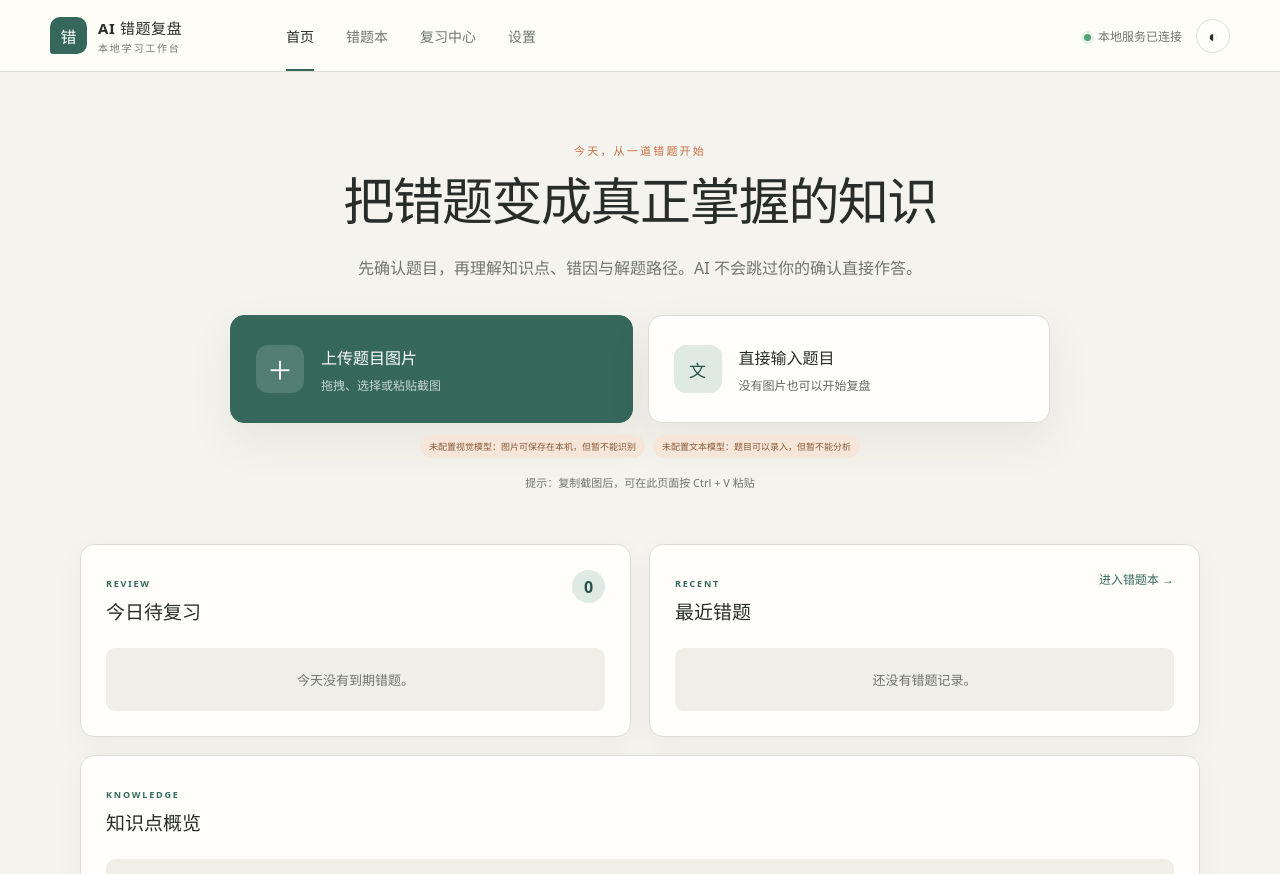
Test case: 应用骨架 › 创建文字题目后必须进入确认页
Click the button "文 直接输入题目 没有图片也可以开始复盘": (698, 369) [648,315,1050,423]
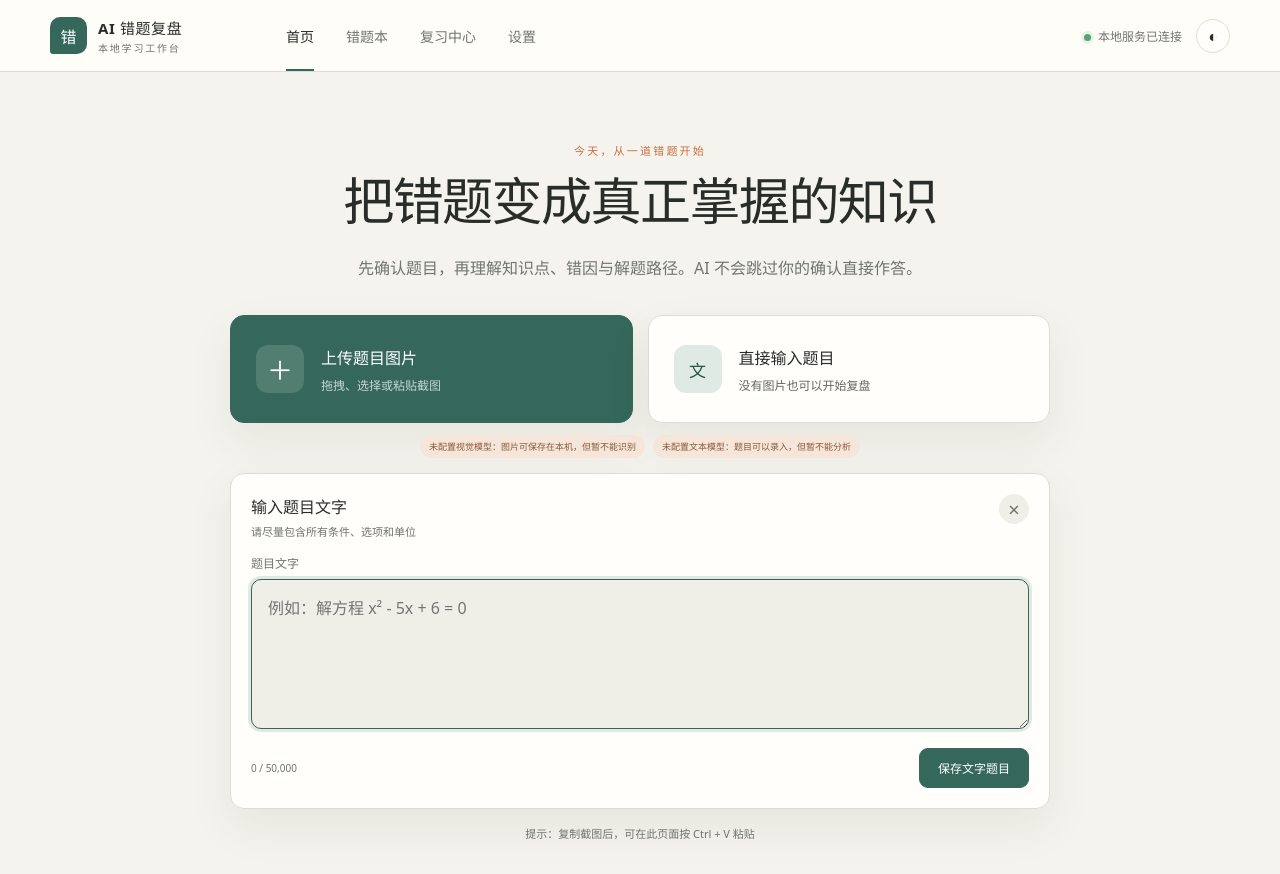
In the text box labelled "题目文字": (640, 654) [251,579,1029,729], type "解方程 x + 2 = 5"
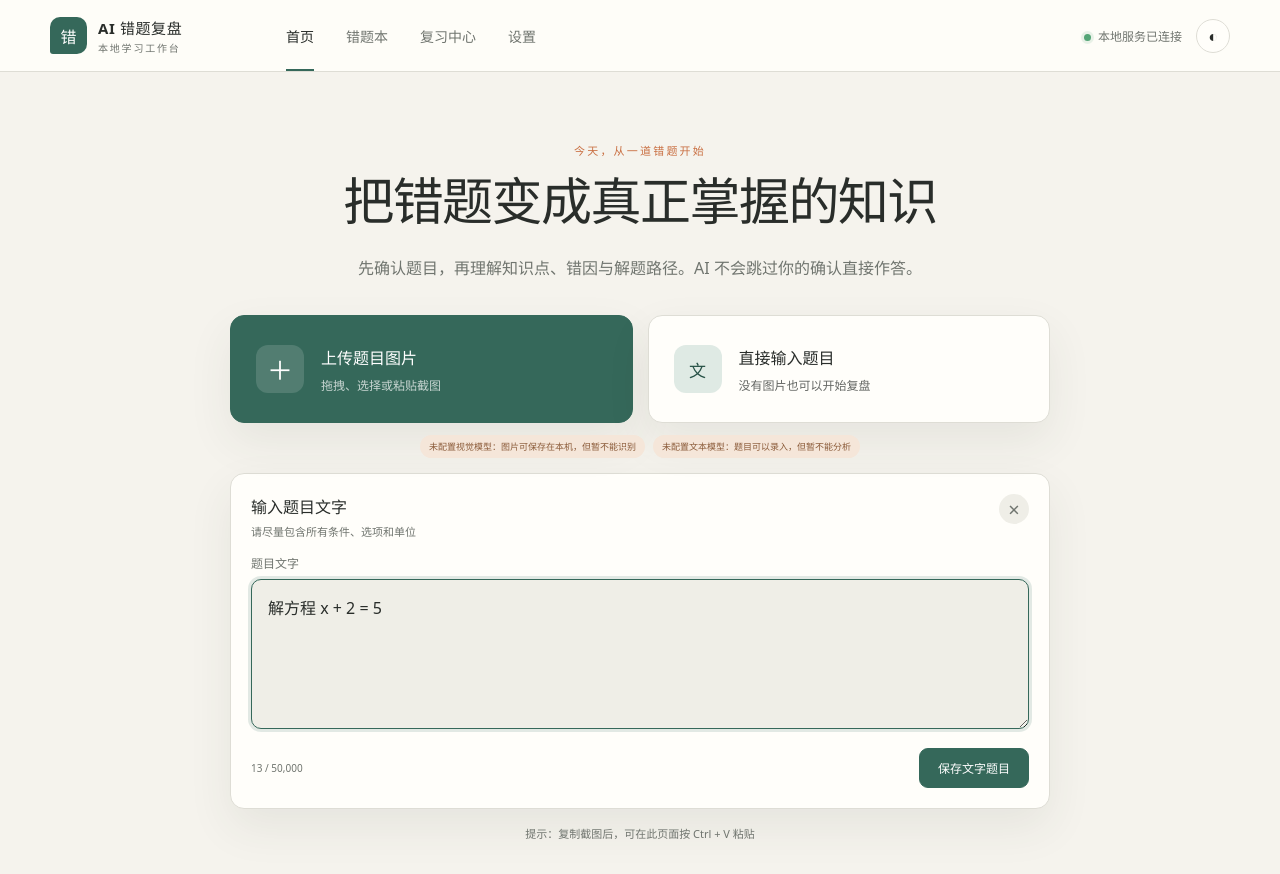
Click the button "保存文字题目": (974, 768) [919,748,1029,788]
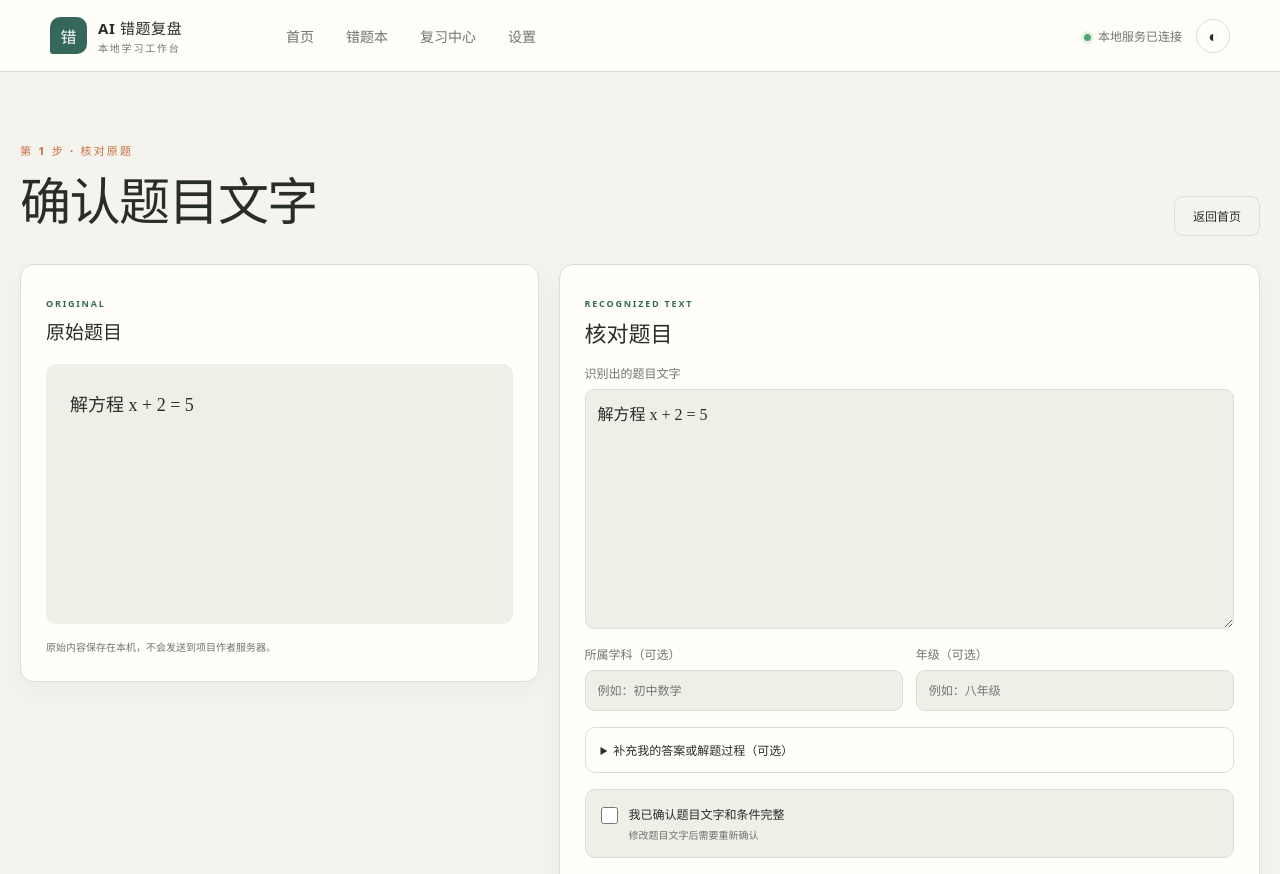
Result: the heading "确认题目文字" is shown at [20,172,317,236]
Result: the text box labelled "识别出的题目文字" holds "解方程 x + 2 = 5" at [584,389,1234,629]
